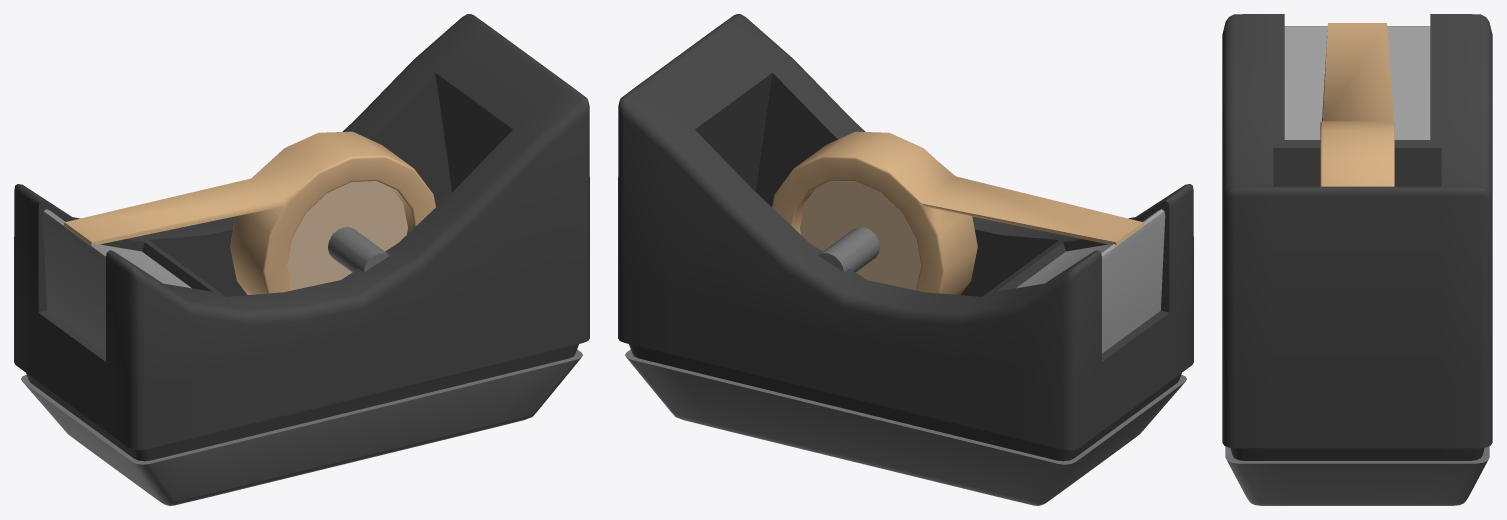
File: Tape Dispenser01.fbx
3 renders of one model, left to right at view 1: azimuth 30°, elevation 25°; view 2: azimuth 150°, elevation 25°; view 3: azimuth 270°, elevation 25°, orthographic. The views are drawn at different scales.
Parts seen in each view (by area): view 1: Tape Dispenser01; view 2: Tape Dispenser01; view 3: Tape Dispenser01.
Boxes of the visible parts, x1,y1,x2,y2 form: Tape Dispenser01: (14, 14, 589, 505); Tape Dispenser01: (618, 14, 1193, 505); Tape Dispenser01: (1222, 14, 1492, 505).
Size of the model in its own units: 0.1991 by 0.0939 by 0.1321.
